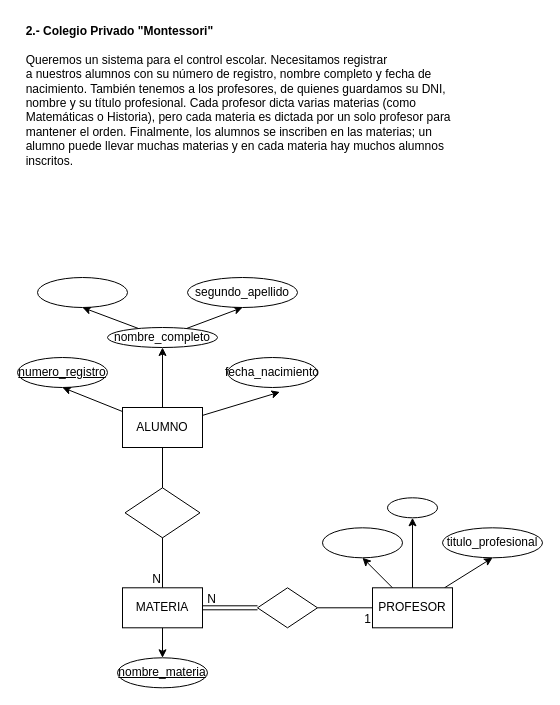
This 560x705 diagram has some shape labels left out. Each missing label, with the centre of its shape:
"ci_identidad" belongs at pixel 362 542.
"DICTA" belongs at pixel 287 607.
"INSCRIBE" belongs at pixel 162 512.
"nombre" belongs at pixel 412 507.
"primer_apellido" belongs at pixel 82 292.
